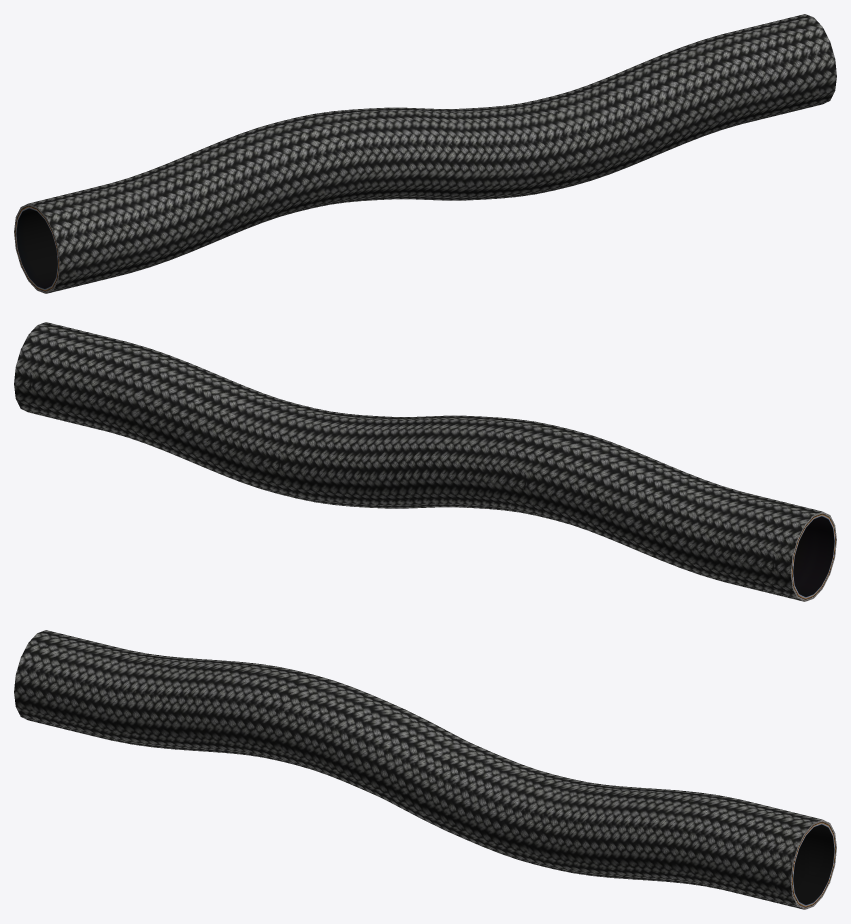
The picture shows the model from 3 angles, top to bottom: view 1: azimuth 30°, elevation 25°; view 2: azimuth 150°, elevation 25°; view 3: azimuth 330°, elevation 25°; orthographic projection.
Visible parts, largest first — view 1: Aramid_Braid-28; view 2: Aramid_Braid-28; view 3: Aramid_Braid-28.
Boxes of the visible parts, x1=… form: Aramid_Braid-28: x1=14, y1=14, x2=836, y2=293; Aramid_Braid-28: x1=14, y1=322, x2=836, y2=601; Aramid_Braid-28: x1=14, y1=630, x2=836, y2=909.
Bounding box in the file's own units: 0.5 × 0.077 × 0.0516.
2 materials, 2 textured.
